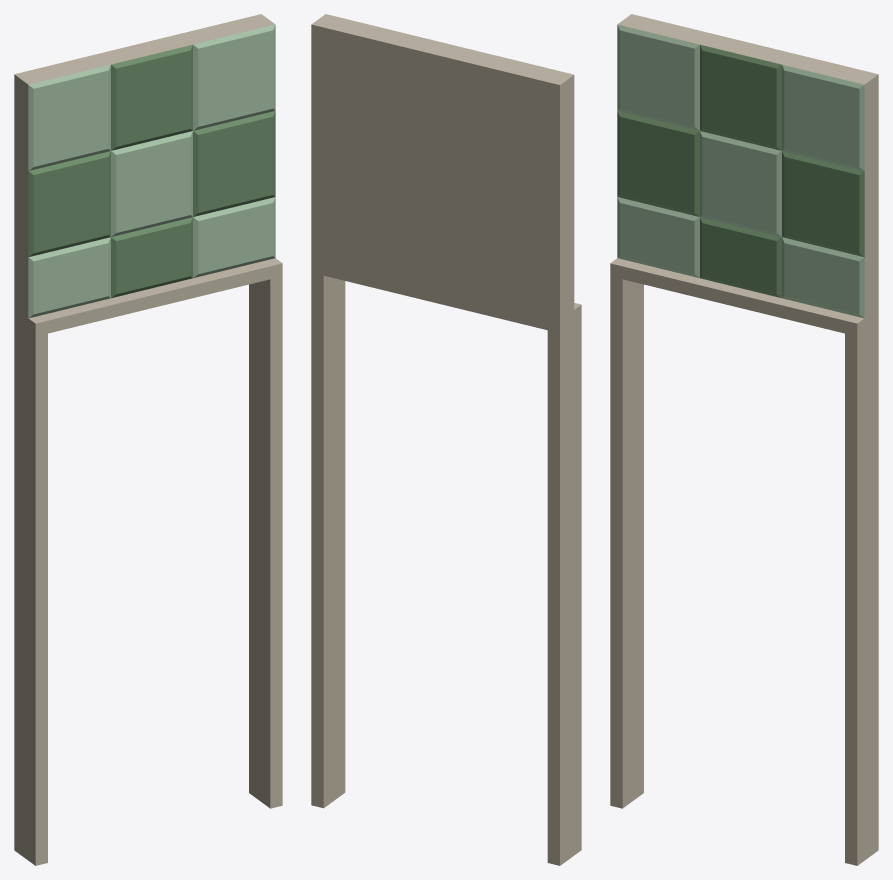
File: Mesh_DoorHoleCeramic_M2.fbx
The picture shows the model from 3 angles, left to right: view 1: azimuth 30°, elevation 25°; view 2: azimuth 150°, elevation 25°; view 3: azimuth 330°, elevation 25°; orthographic projection.
Parts seen in each view (by area): view 1: Mesh_DoorHoleCeramic_M2; view 2: Mesh_DoorHoleCeramic_M2; view 3: Mesh_DoorHoleCeramic_M2.
Part boxes in pixels (x1,y1,x2,y2): Mesh_DoorHoleCeramic_M2: (14, 14, 282, 865); Mesh_DoorHoleCeramic_M2: (311, 14, 581, 865); Mesh_DoorHoleCeramic_M2: (610, 14, 878, 865).
Size of the model in its own units: 1 by 3 by 0.15.
